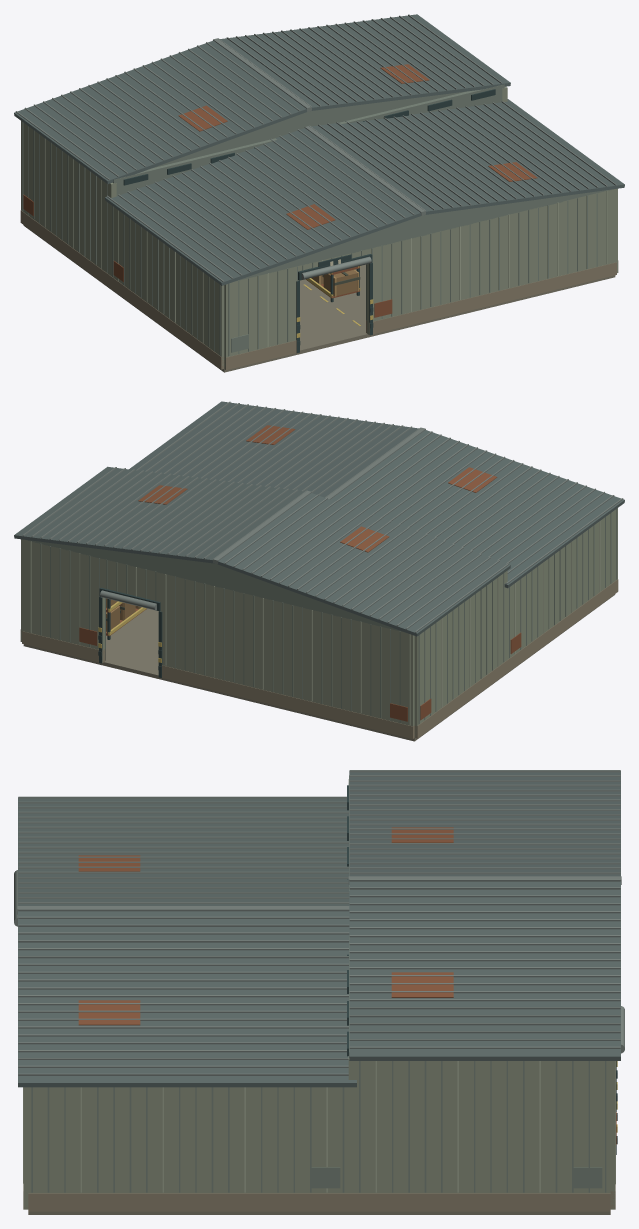
The model's file is FSA_ENV_Shared_Warehouse_02_Partitioned.glb.
3 views of the same model, one above another, from view 1: azimuth 30°, elevation 25°; view 2: azimuth 150°, elevation 25°; view 3: azimuth 270°, elevation 25° (orthographic). The views are drawn at different scales.
Visible parts, largest first — view 1: RoofFront_L, RoofRear_L, FrontRight, RoofFront_R, RoofRear_R, WestRear, WestFront, FrontLeft, Floor, FrontRight_Plinth, RoofStepFascia, WestFront_Plinth (+10 smaller); view 2: BackLeft, RoofRear_L, RoofFront_L, RoofRear_R, RoofFront_R, WestRear, WestFront, BackRight, Floor, BackLeft_Plinth, BackLintel, WestFront_Plinth (+8 smaller); view 3: RoofFront_R, RoofRear_R, EastRear, EastFront, RoofFront_L, RoofRear_L, EastFront_Plinth, EastRear_Plinth, Floor, RoofPatch_467, RoofPatch_257, RoofRear_Ridge (+89 smaller).
Part boxes in pixels (left/top/right/bottom): RoofFront_L: left=105, top=128, right=421, bottom=285; RoofRear_L: left=14, top=40, right=306, bottom=183; FrontRight: left=366, top=189, right=616, bottom=334; RoofFront_R: left=311, top=99, right=624, bottom=214; RoofRear_R: left=220, top=14, right=510, bottom=110; WestRear: left=21, top=121, right=116, bottom=275; WestFront: left=111, top=205, right=224, bottom=368; FrontLeft: left=224, top=266, right=299, bottom=369; Floor: left=23, top=225, right=615, bottom=372; FrontRight_Plinth: left=366, top=262, right=616, bottom=334; RoofStepFascia: left=113, top=84, right=504, bottom=195; WestFront_Plinth: left=111, top=276, right=223, bottom=369; BackLeft: left=159, top=572, right=414, bottom=726; RoofRear_L: left=217, top=493, right=510, bottom=636; RoofFront_L: left=330, top=430, right=624, bottom=588; RoofRear_R: left=14, top=466, right=304, bottom=563; RoofFront_R: left=129, top=401, right=418, bottom=497; WestRear: left=414, top=570, right=507, bottom=737; WestFront: left=507, top=508, right=617, bottom=659; BackRight: left=22, top=539, right=105, bottom=662; Floor: left=23, top=594, right=615, bottom=741; BackLeft_Plinth: left=162, top=665, right=414, bottom=738; BackLintel: left=102, top=559, right=158, bottom=601; WestFront_Plinth: left=508, top=579, right=618, bottom=671; RoofFront_R: left=18, top=911, right=356, bottom=1087; RoofRear_R: left=349, top=881, right=620, bottom=1060; EastRear: left=348, top=1056, right=610, bottom=1193; EastFront: left=28, top=1087, right=348, bottom=1193; RoofFront_L: left=18, top=797, right=349, bottom=905; RoofRear_L: left=349, top=771, right=620, bottom=876; EastFront_Plinth: left=28, top=1193, right=348, bottom=1211; EastRear_Plinth: left=348, top=1193, right=610, bottom=1211; Floor: left=28, top=1211, right=610, bottom=1214; RoofPatch_467: left=391, top=972, right=453, bottom=997; RoofPatch_257: left=78, top=1000, right=140, bottom=1025; RoofRear_Ridge: left=348, top=876, right=621, bottom=884.
Bounding box in the file's own units: 18.58 × 6.02 × 16.78.
